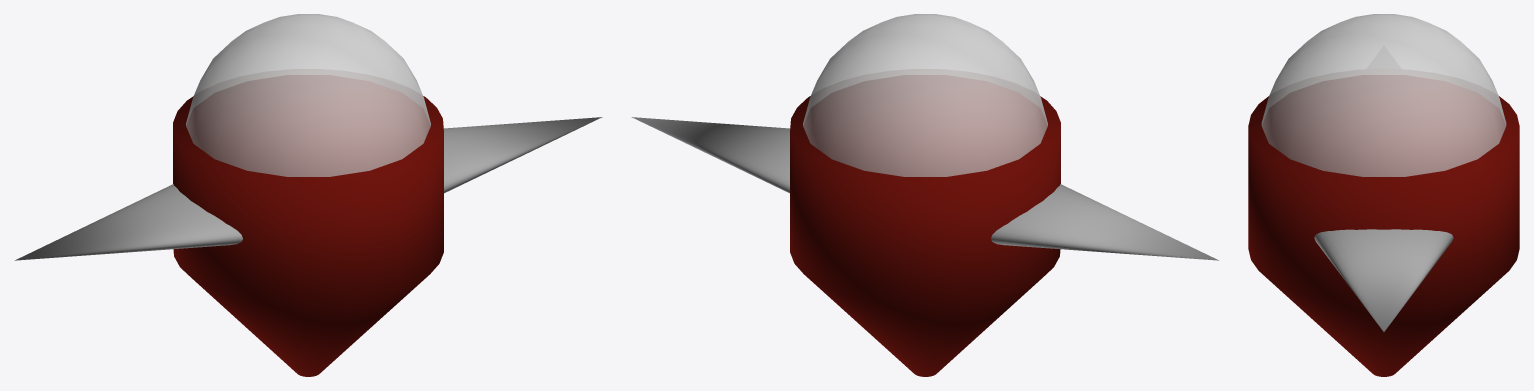
Rendered from spike_top.glb.
The picture shows the model from 3 angles, left to right: view 1: azimuth 30°, elevation 25°; view 2: azimuth 150°, elevation 25°; view 3: azimuth 270°, elevation 25°; orthographic projection.
Parts seen in each view (by area): view 1: Top Center, Top Eye, Top Blades; view 2: Top Center, Top Eye, Top Blades; view 3: Top Center, Top Eye, Top Blades.
Part boxes in pixels (x1,y1,x2,y2): Top Center: [173, 75, 443, 376]; Top Eye: [186, 14, 430, 176]; Top Blades: [15, 117, 602, 260]; Top Center: [790, 75, 1060, 376]; Top Eye: [803, 14, 1047, 176]; Top Blades: [631, 117, 1218, 260]; Top Center: [1248, 75, 1519, 376]; Top Eye: [1261, 14, 1506, 176]; Top Blades: [1314, 229, 1453, 331].
Bounding box in the file's own units: 5.01 × 2.82 × 2.
